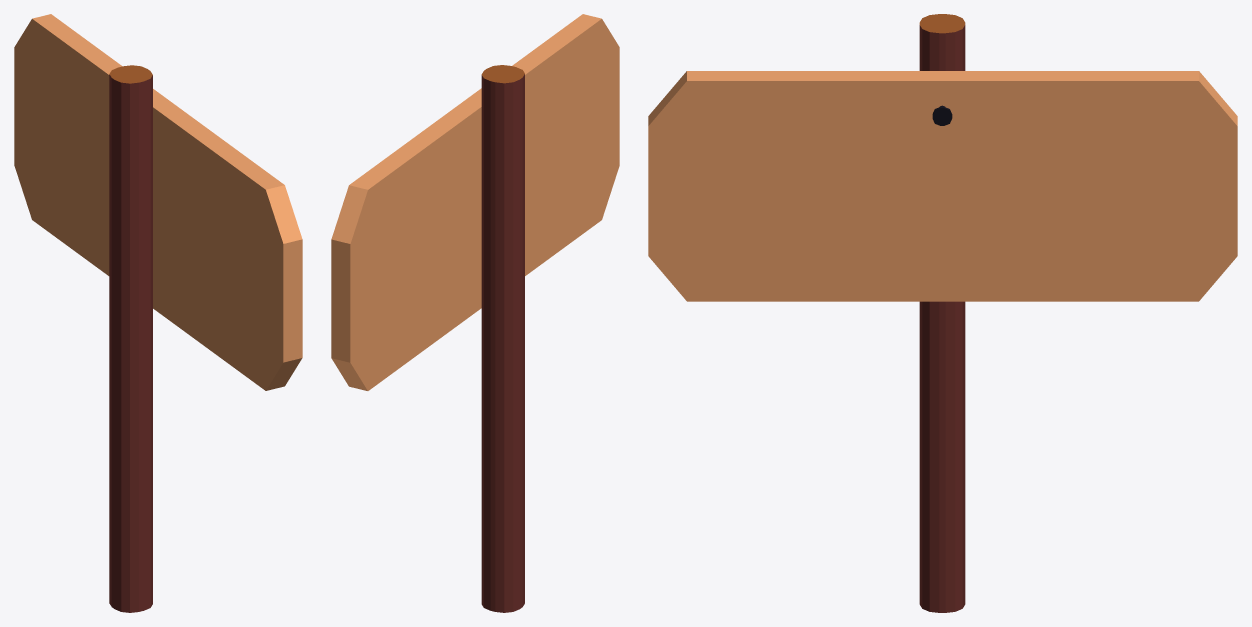
The model's file is WoddenSign1.fbx.
3 renders of one model, left to right at view 1: azimuth 30°, elevation 25°; view 2: azimuth 150°, elevation 25°; view 3: azimuth 270°, elevation 25°, orthographic. The views are drawn at different scales.
Parts seen in each view (by area): view 1: Cube.001, Cube; view 2: Cube.001, Cube; view 3: Cube.001, Cube.
Boxes of the visible parts, box(x1,y1,x2,y2) form: Cube.001: box(14, 14, 302, 390); Cube: box(109, 65, 152, 612); Cube.001: box(331, 14, 619, 390); Cube: box(481, 65, 524, 612); Cube.001: box(648, 71, 1237, 301); Cube: box(919, 14, 965, 612).
Size of the model in its own units: 127 by 920 by 847.
